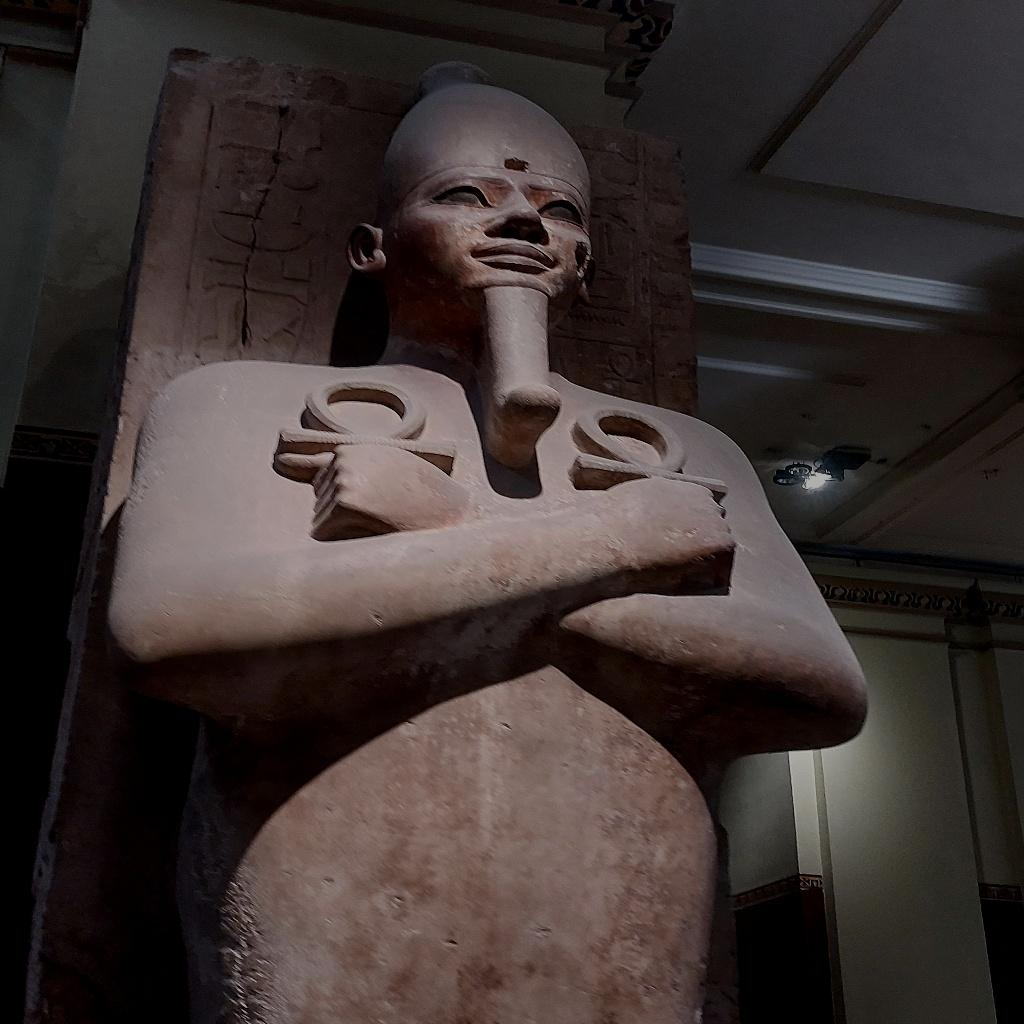Colossus of Senuseret I: (89, 59, 876, 1018)
